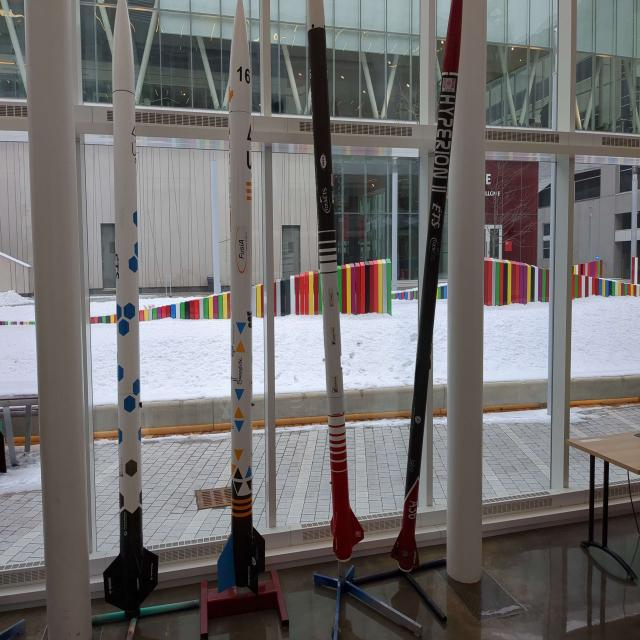Rocket: (391, 0, 463, 573), (103, 0, 159, 619), (307, 0, 364, 563), (217, 0, 265, 597)
